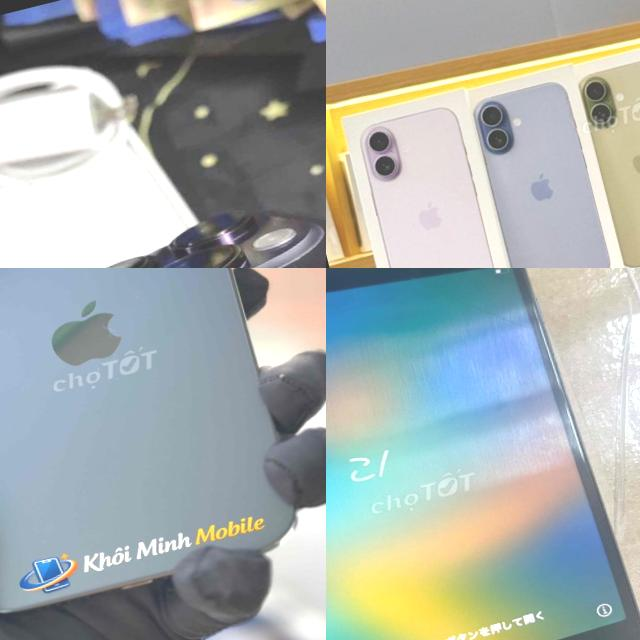gen_14: (0, 268, 320, 621), (0, 141, 326, 268)
gen_17: (465, 69, 620, 268), (342, 90, 511, 268), (567, 46, 640, 268)
gen_7_8: (326, 268, 640, 640)
